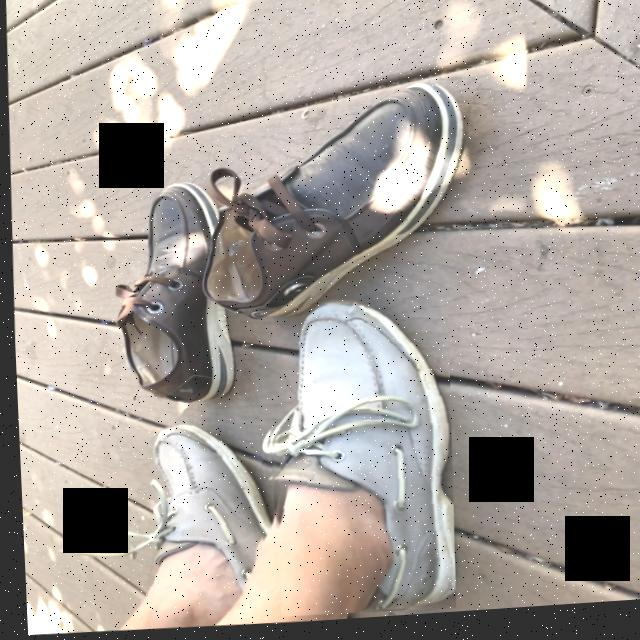shoe: (265, 309, 449, 616), (147, 428, 258, 591)
